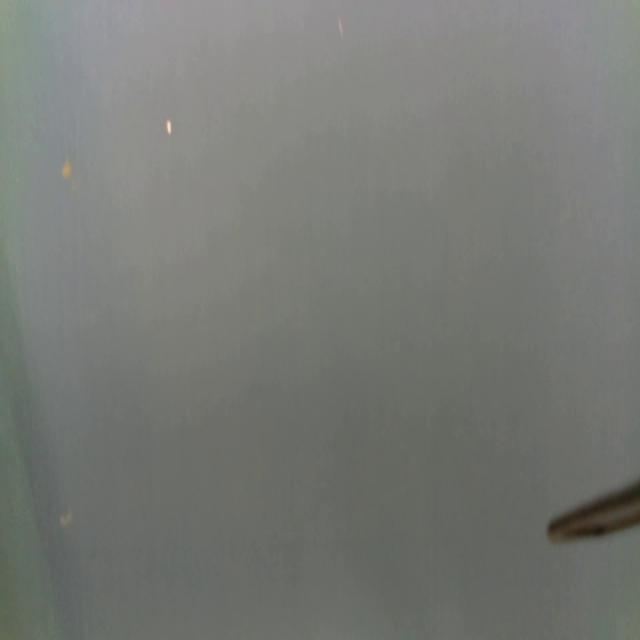hole: (337, 11, 346, 41), (164, 119, 174, 137)
